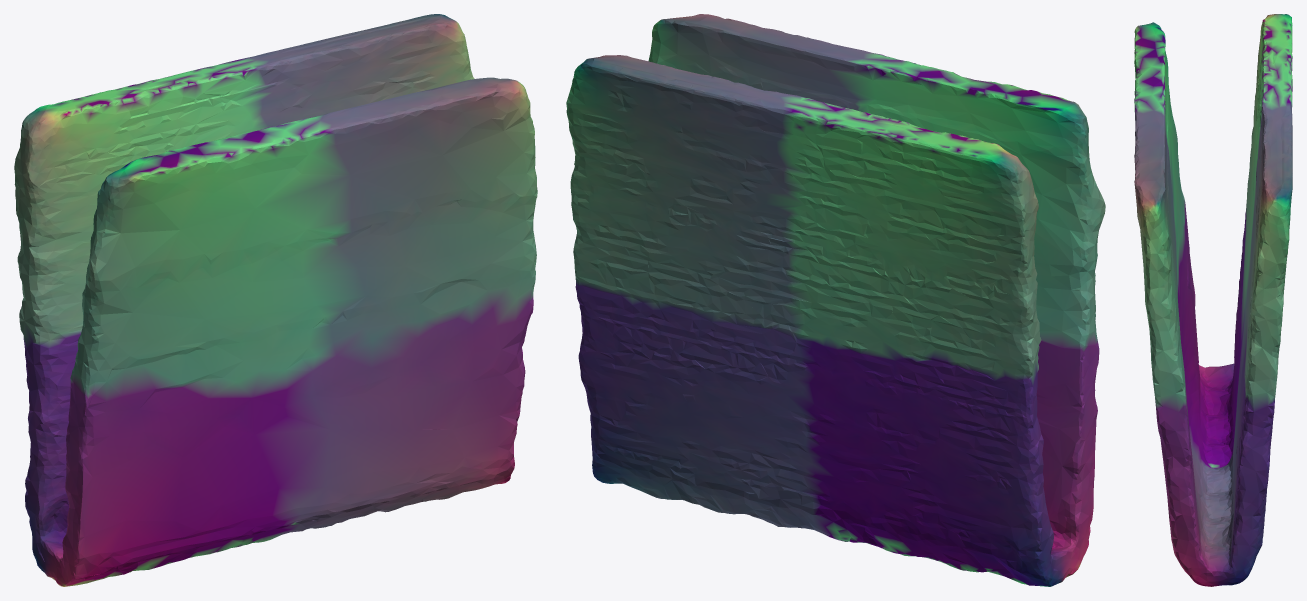
The model's file is paper-4.off.obj.
3 renders of one model, left to right at view 1: azimuth 30°, elevation 25°; view 2: azimuth 150°, elevation 25°; view 3: azimuth 270°, elevation 25°, orthographic. The views are drawn at different scales.
Bounding box in the file's own units: 1.31 × 1.25 × 0.4495.
